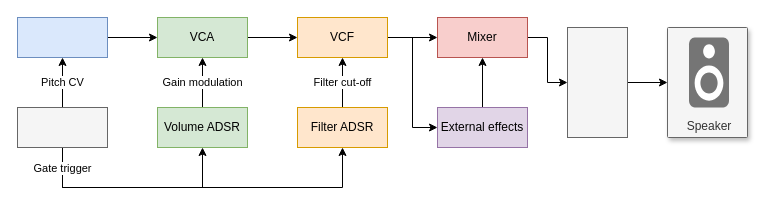
Some shapes in this 771 by 213 pixel diagram are drawn without their labels. The centre of each missing label's shape, as x and y in pixels:
"Amplifier" goes at (597,82).
"Note on" goes at (62,127).
"VCO" goes at (62,37).
